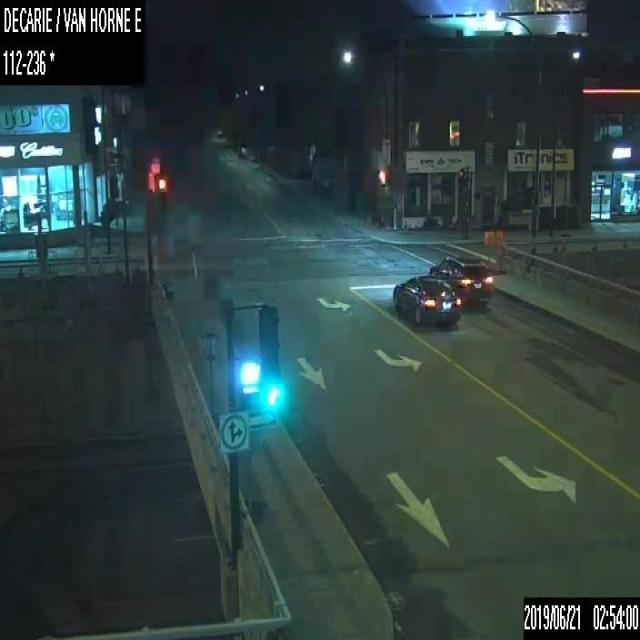construction: (244, 427, 266, 522), (200, 329, 220, 428), (482, 229, 495, 274), (494, 228, 506, 273)
vehicle: (428, 254, 494, 308), (391, 274, 461, 324)
